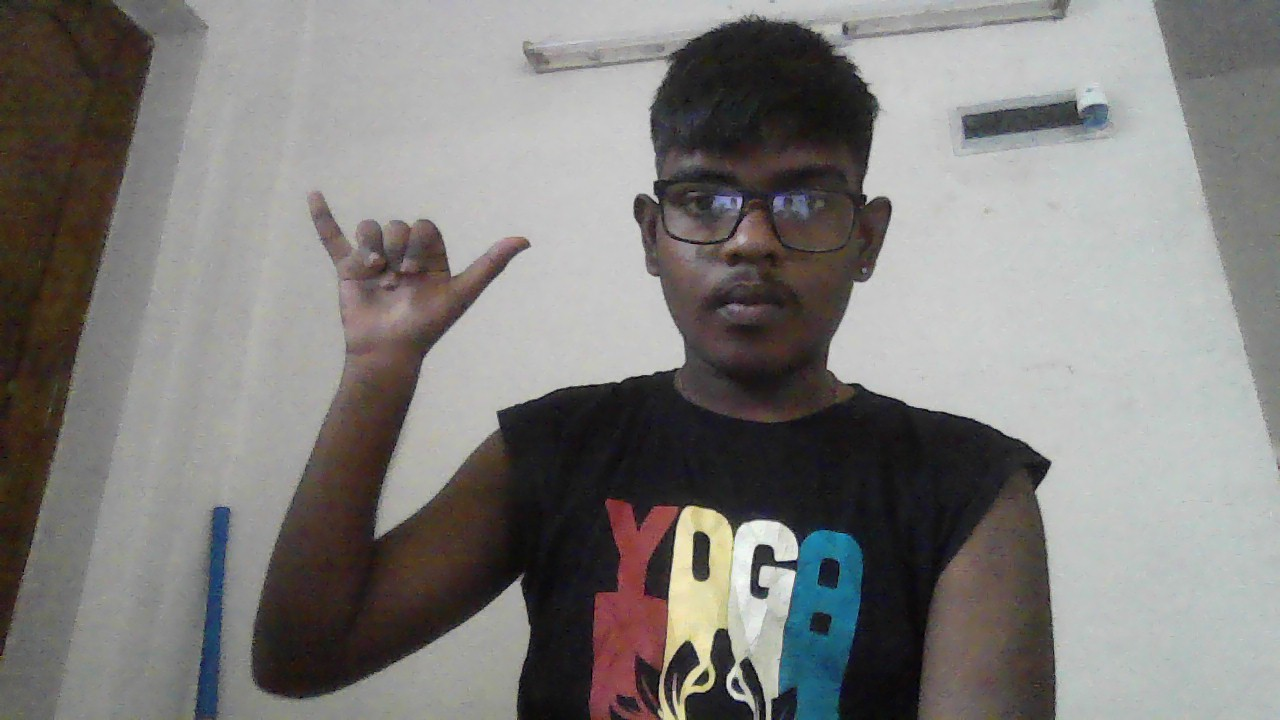Y: (306, 189, 532, 361)
